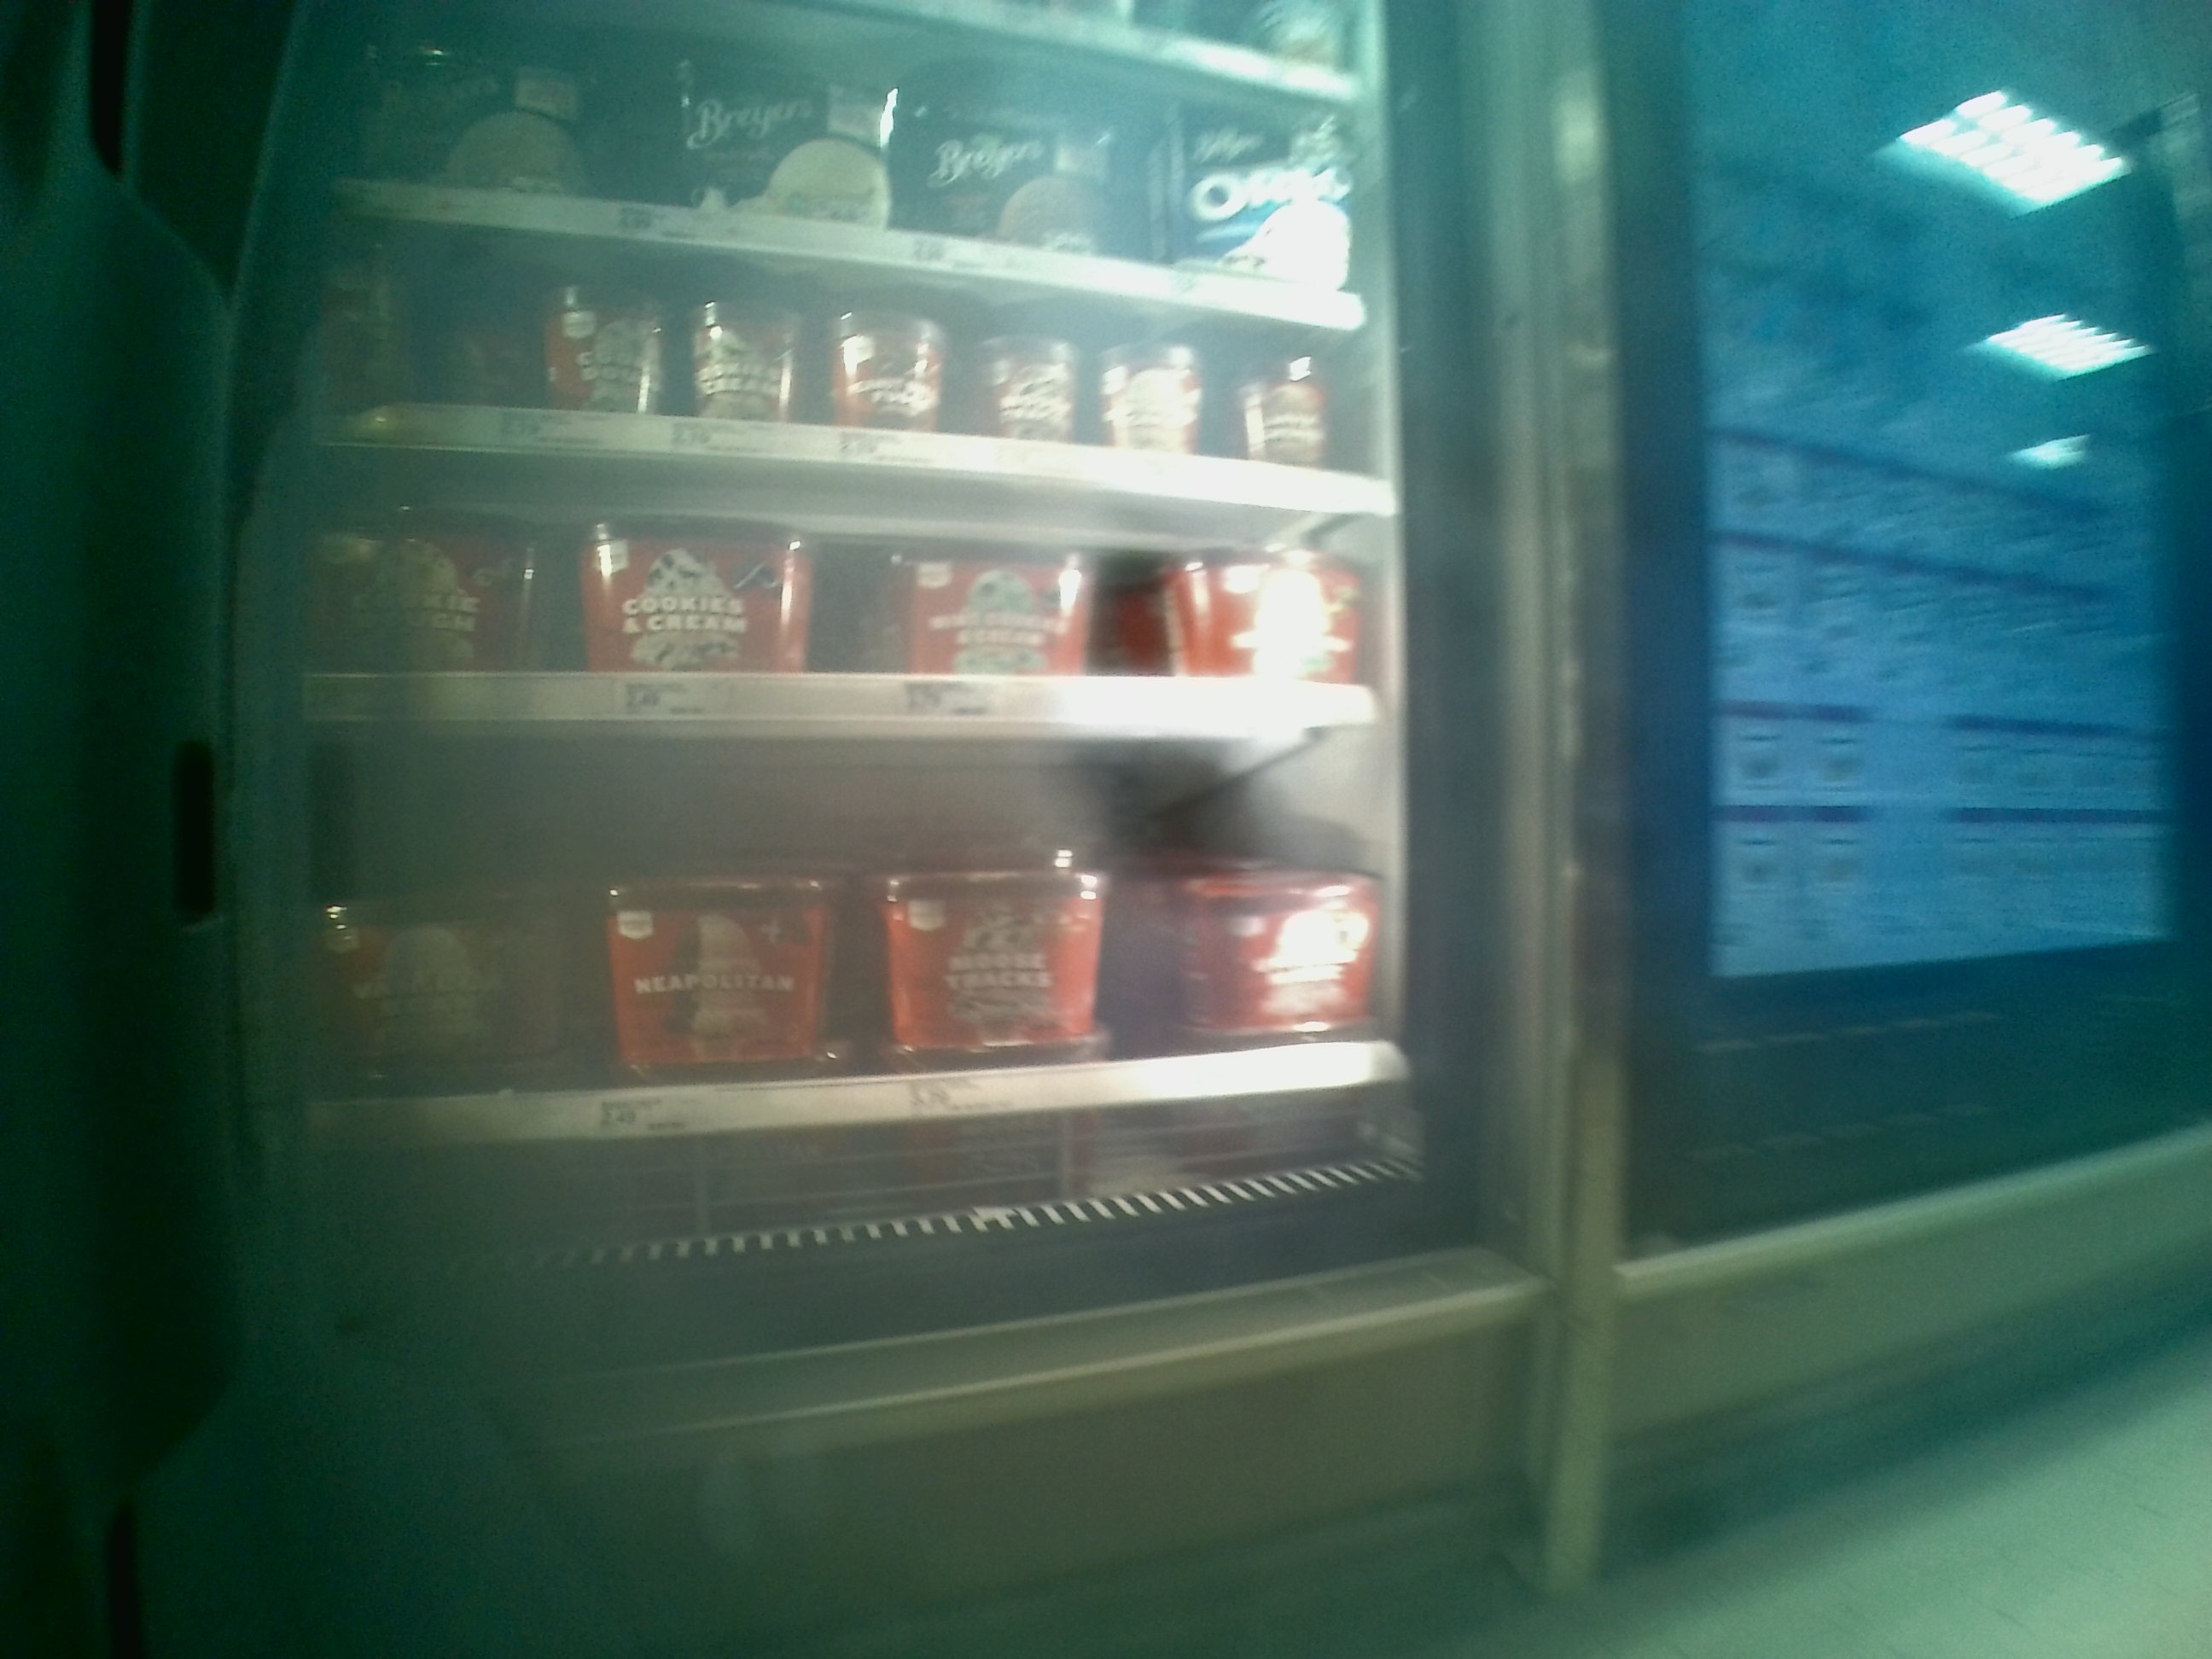shelf: (301, 721, 1433, 1201), (310, 207, 1400, 521), (296, 455, 1399, 727)
